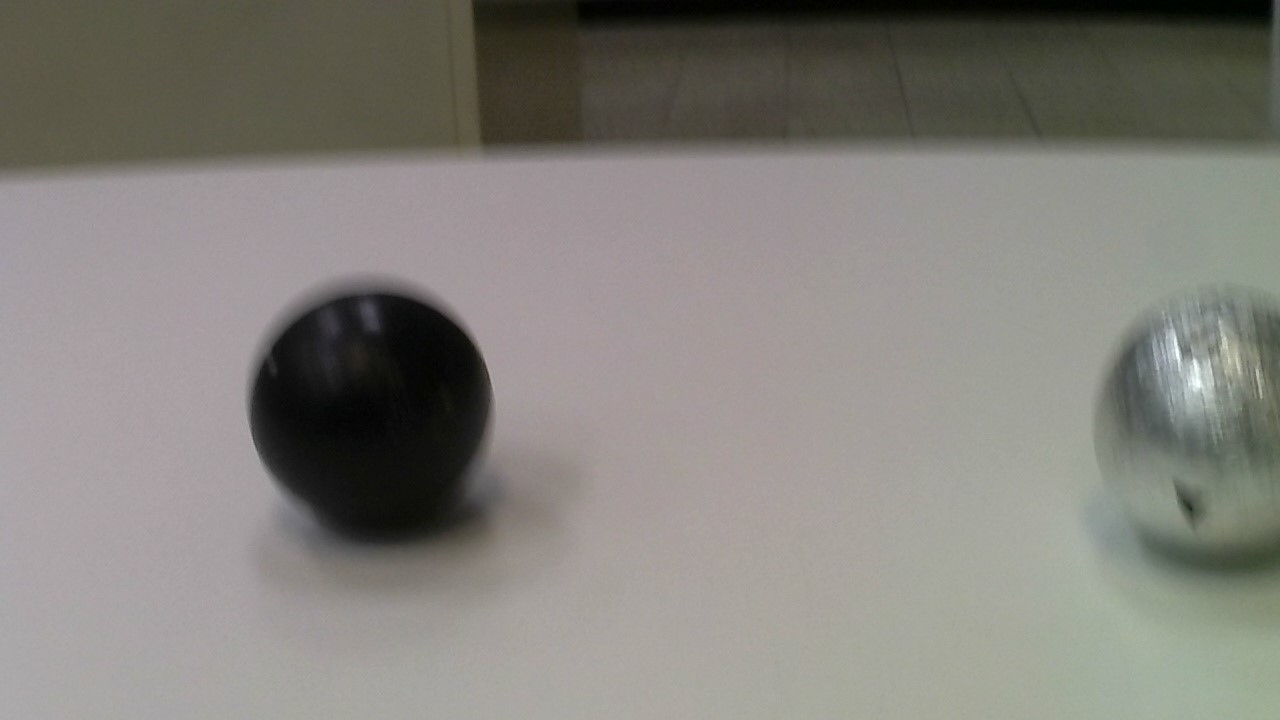black_ball: (238, 283, 504, 538)
silver_ball: (1072, 276, 1280, 582)
